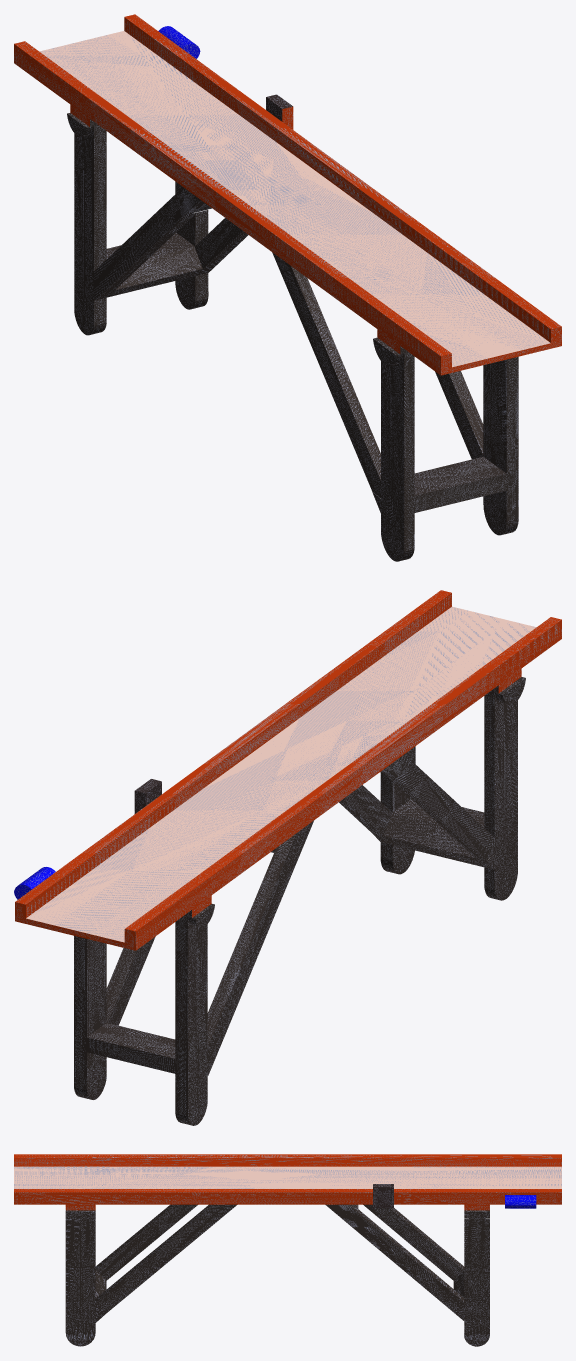
File: conveyor.dae
3 views of the same model, one above another, from view 1: azimuth 30°, elevation 25°; view 2: azimuth 150°, elevation 25°; view 3: azimuth 270°, elevation 25° (orthographic). The views are drawn at different scales.
Parts seen in each view (by area): view 1: SketchUp (×4); view 2: SketchUp (×4); view 3: SketchUp (×7).
Boxes of the visible parts, x1,y1,x2,y2 form: SketchUp (×4): (14, 14, 561, 561); SketchUp (×4): (15, 590, 561, 1125); SketchUp (×7): (14, 1154, 561, 1346).
Size of the model in its own units: 35.66 by 180 by 59.49.
